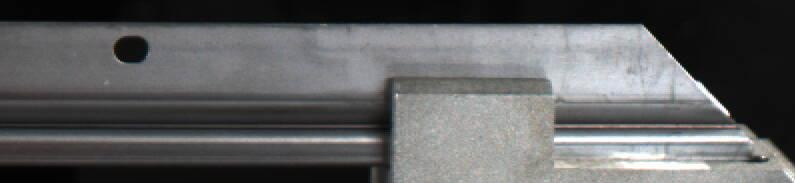cut: (568, 22, 763, 165), (0, 20, 46, 137)
holes: (111, 33, 151, 64)
